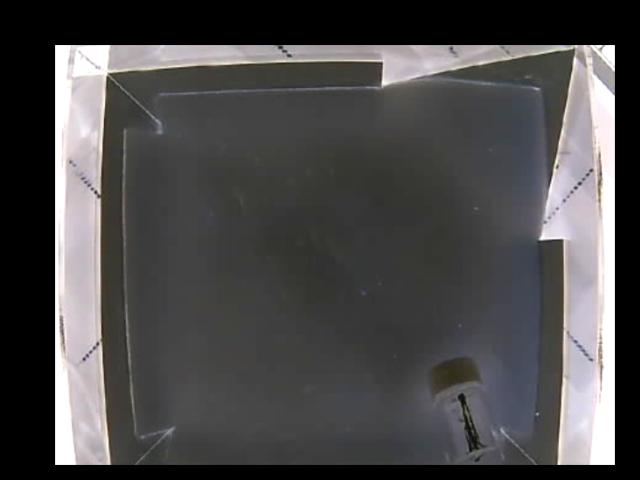Bottle: (426, 354, 498, 464)
